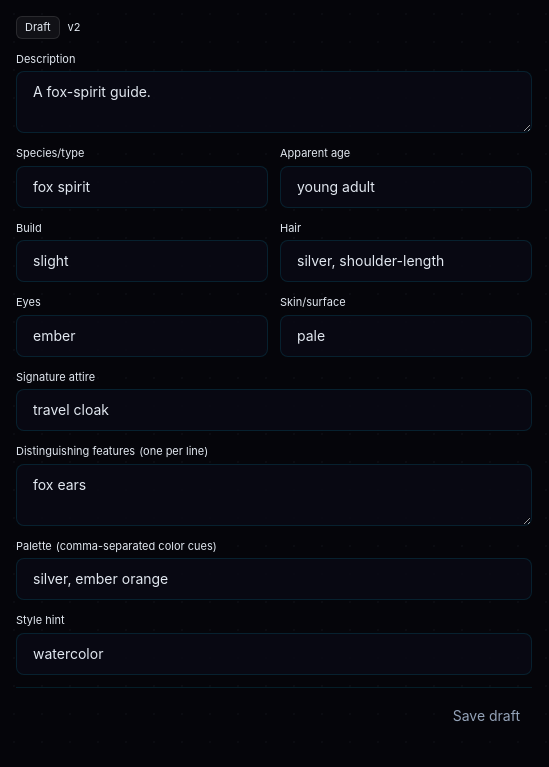
Test: VisualIdentityEditor › surfaces a 409 conflict and offers to reload the latest version
Check: the field showing "silver, shoulder-length" is shown, box [280, 240, 532, 282]
Click the button "Save draft" at coordinates (486, 716), box [441, 700, 532, 732]
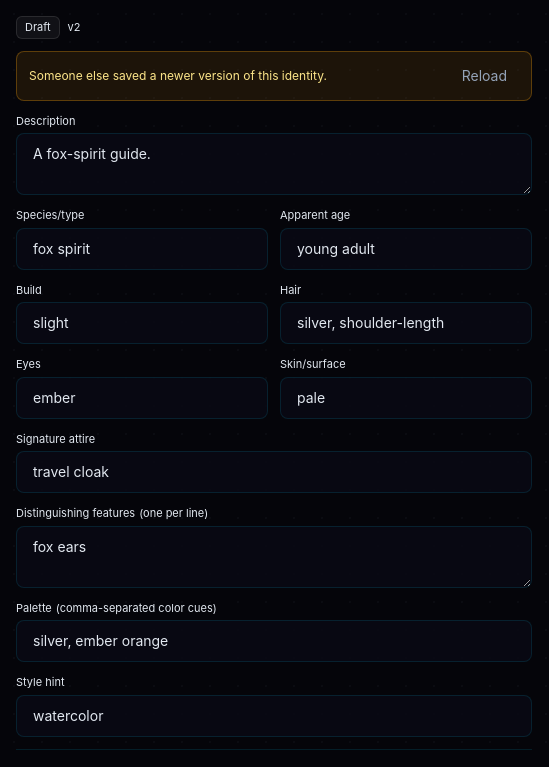
Check: the message shows "newer version", box [29, 68, 327, 82]
Note: Reload pulls the identity again and clears the conflict.
Click the button "Reload" at coordinates (484, 76), box [450, 60, 519, 92]
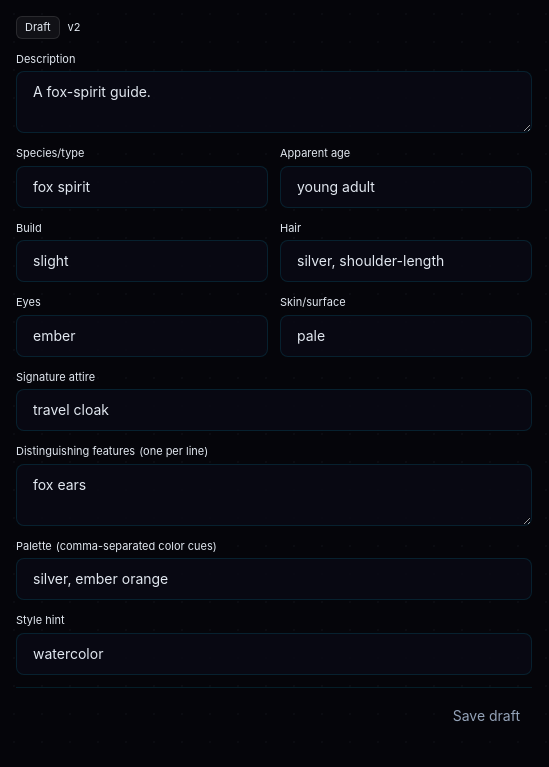
Check: the field showing "silver, shoulder-length" is shown, box [280, 240, 532, 282]
Check: the message "Someone else saved a newer version of this identity. Reload" is gone
